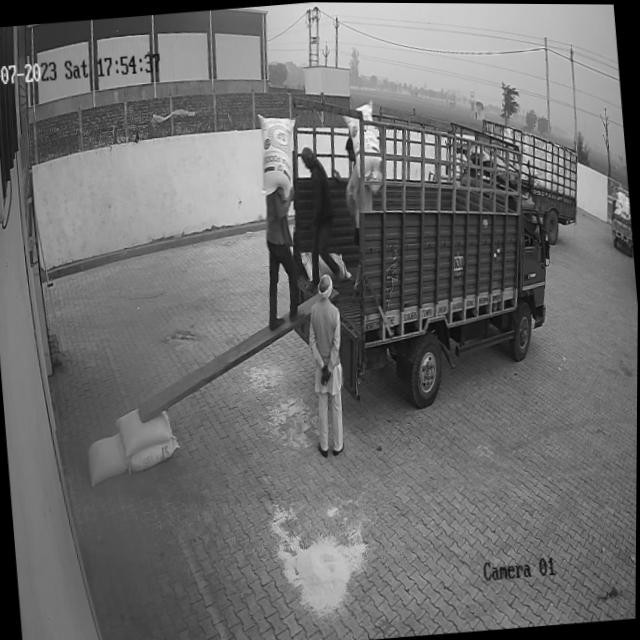sack: (255, 108, 301, 198), (116, 406, 173, 455), (85, 434, 129, 485), (128, 435, 180, 472)
